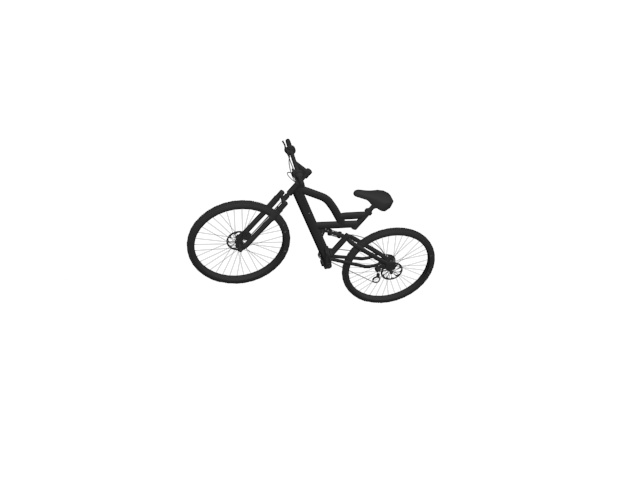bike: (185, 137, 440, 304)
